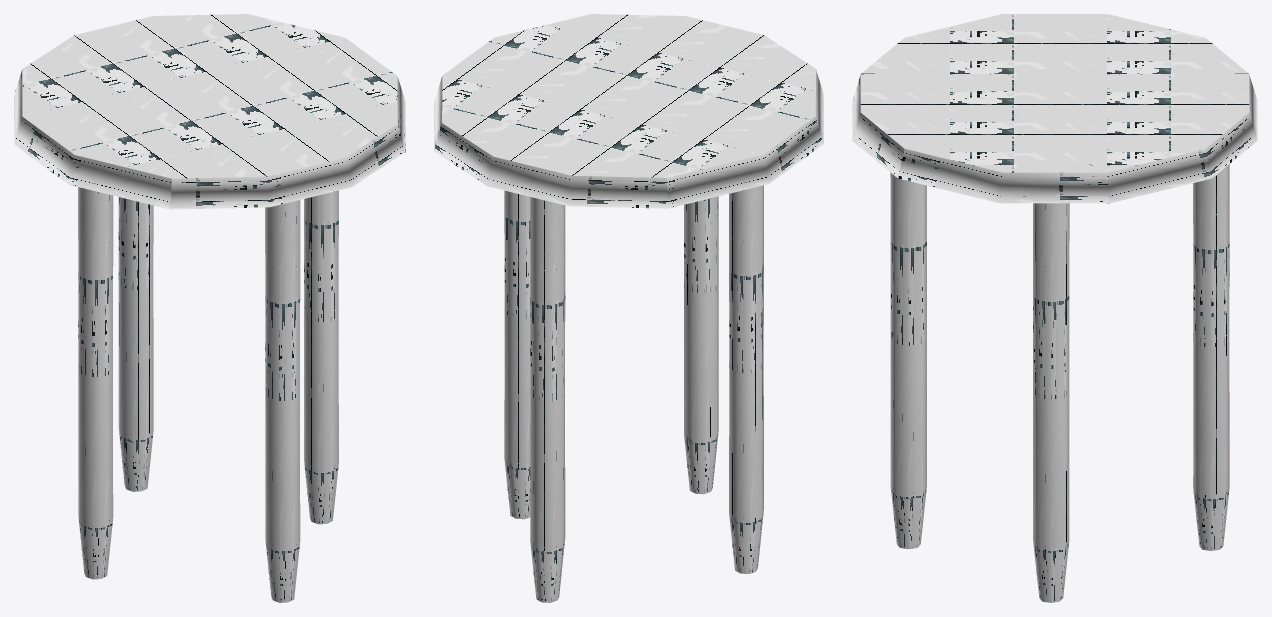
Rendered from RoundChair.FBX.
3 views of the same model, side by side, from view 1: azimuth 30°, elevation 25°; view 2: azimuth 150°, elevation 25°; view 3: azimuth 270°, elevation 25° (orthographic).
Parts seen in each view (by area): view 1: RoundChair; view 2: RoundChair; view 3: RoundChair.
Boxes of the visible parts, left/top/right/bottom form: RoundChair: left=14, top=14, right=405, bottom=602; RoundChair: left=434, top=14, right=823, bottom=602; RoundChair: left=852, top=14, right=1257, bottom=602.
Bounding box in the file's own units: 1.07 × 1.11 × 1.37.
Materials: 1 (1 with a texture image).
